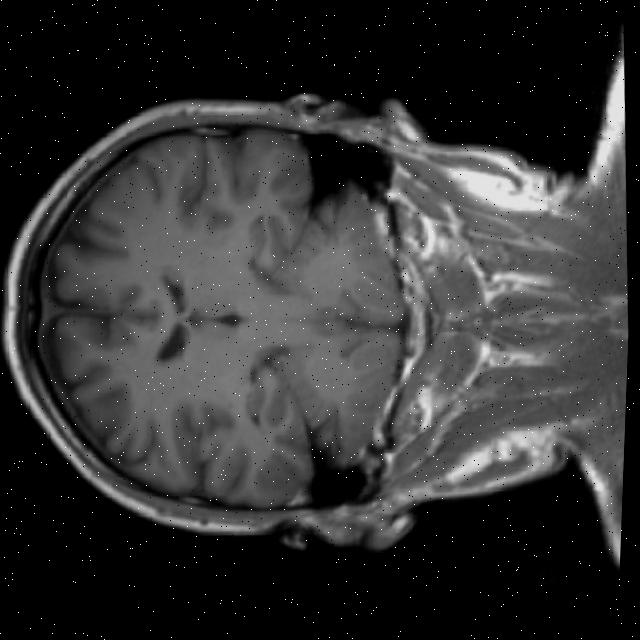NoTumor: (0, 80, 423, 552)
